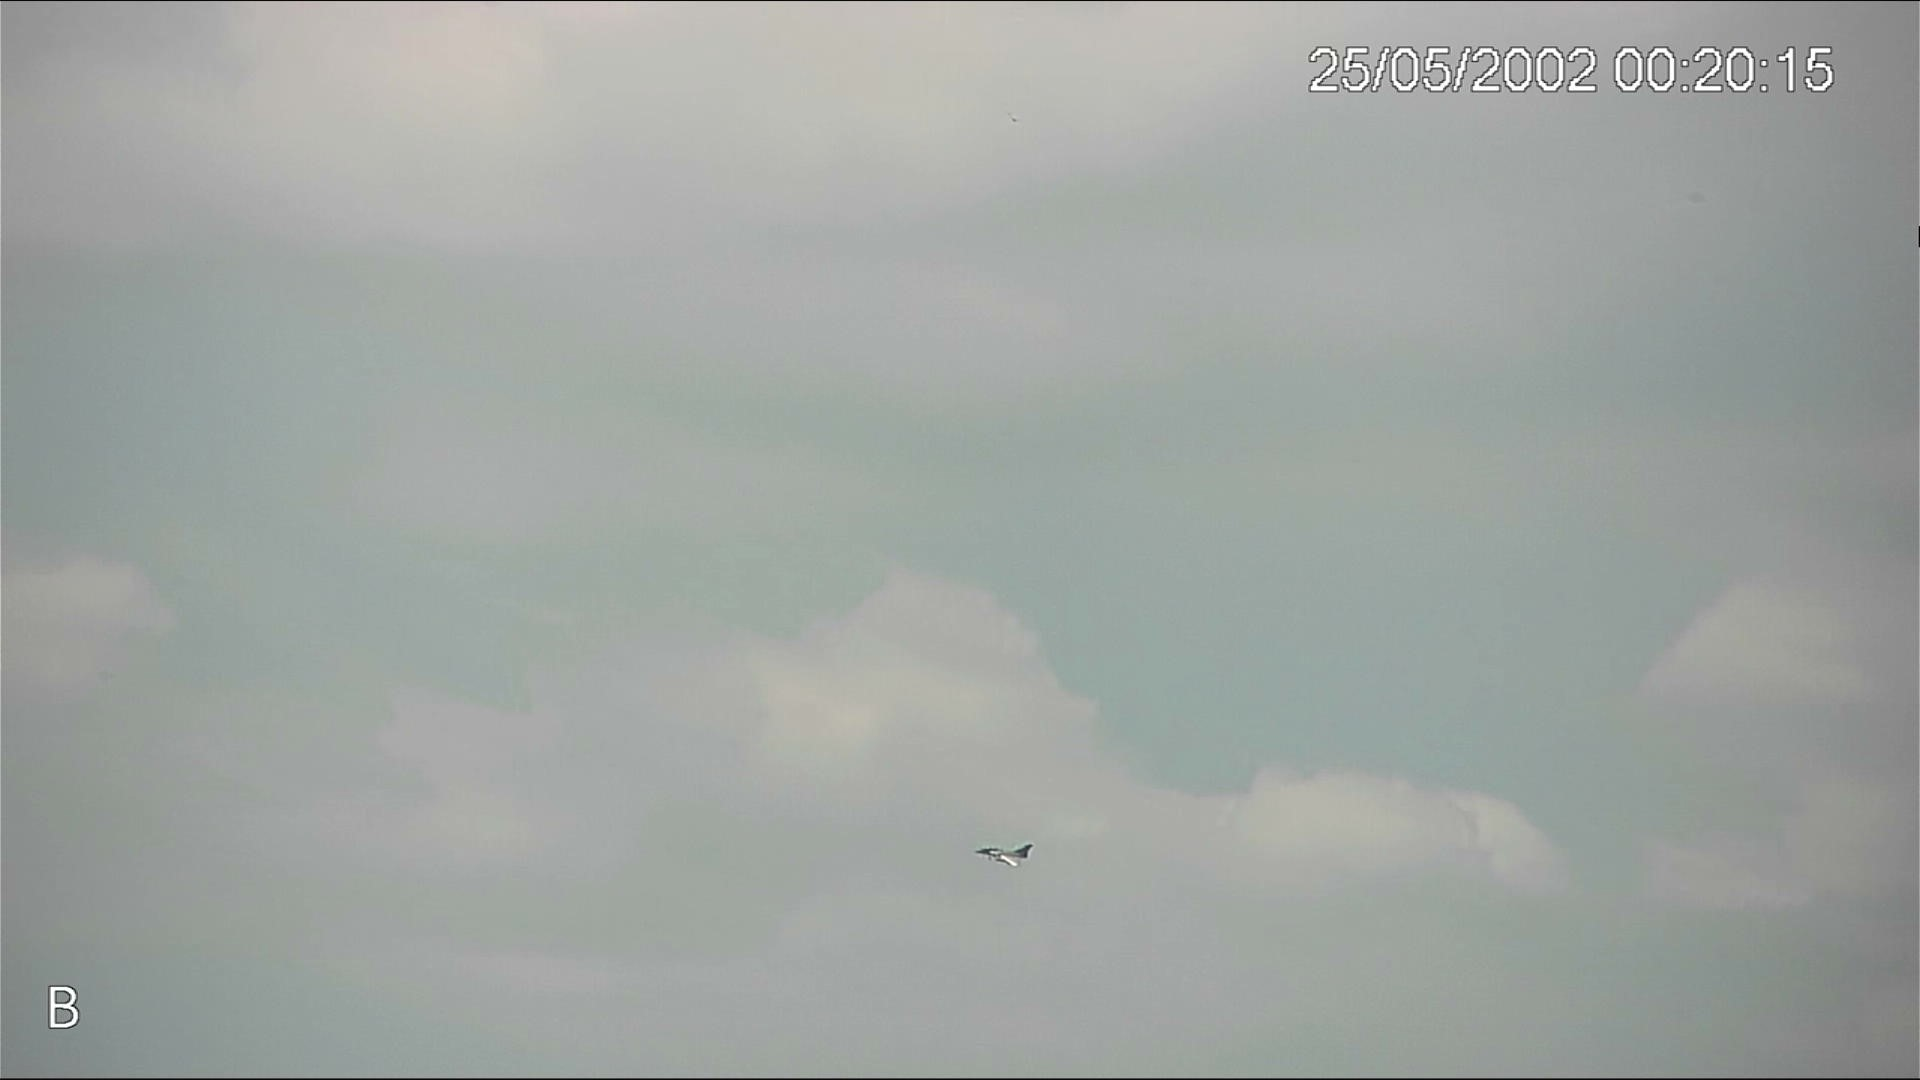SU_30: (973, 840, 1039, 869)
